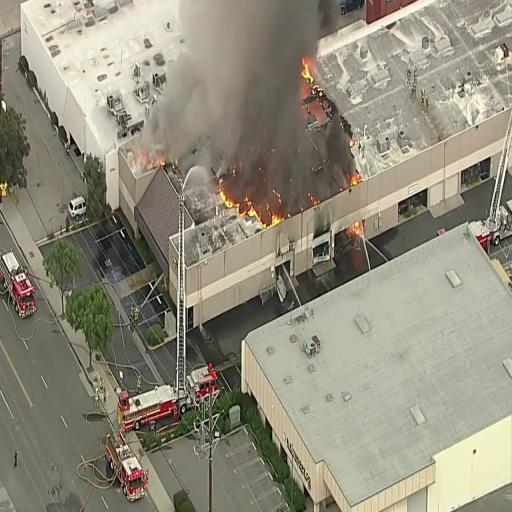smoke: (203, 10, 285, 144)
